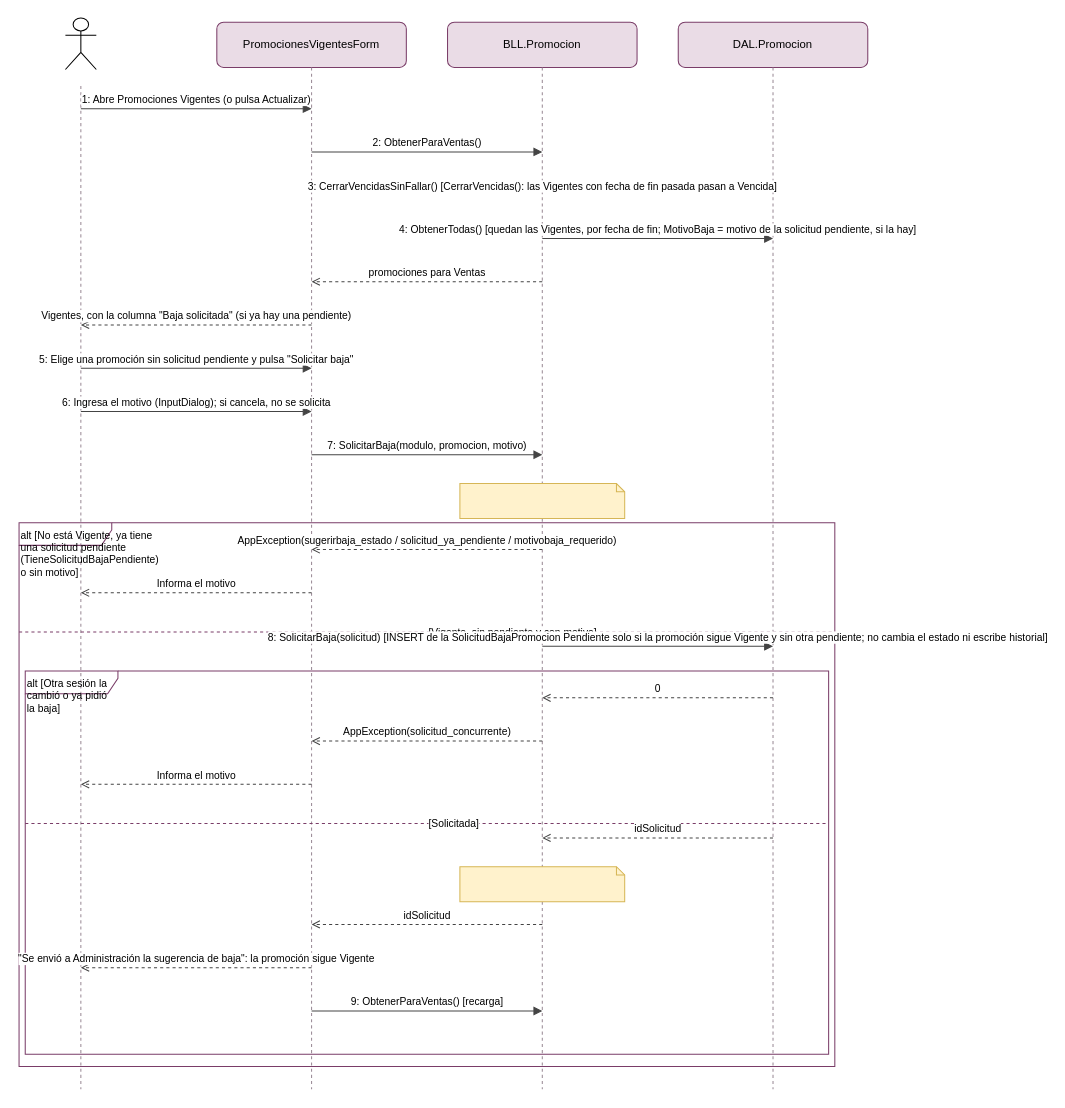
This 1065x1108 diagram has some shape labels left out. The shapes that lost their labels are listed below. From the top down, each one's centre as x and y in pixels, then its label:
(x=80, y=43): Vendedor
(x=542, y=501): PermisosAccion.Exigir(PromocionesVigentesEditar, PromocionesVigentes)
(x=542, y=884): bitacora.Registrar(modulo, …) · bitacoraNeg.Registrar(Venta, …)
